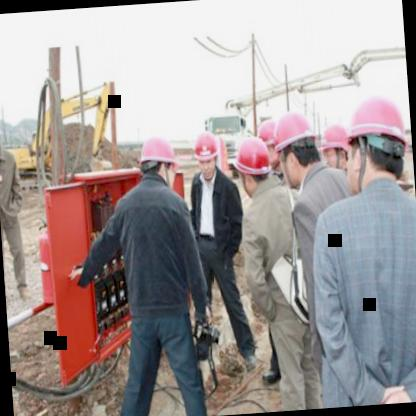helmet: (344, 84, 414, 192), (270, 108, 320, 184), (232, 132, 274, 197), (136, 132, 180, 192), (319, 121, 352, 176), (192, 128, 222, 182), (0, 113, 4, 155)
